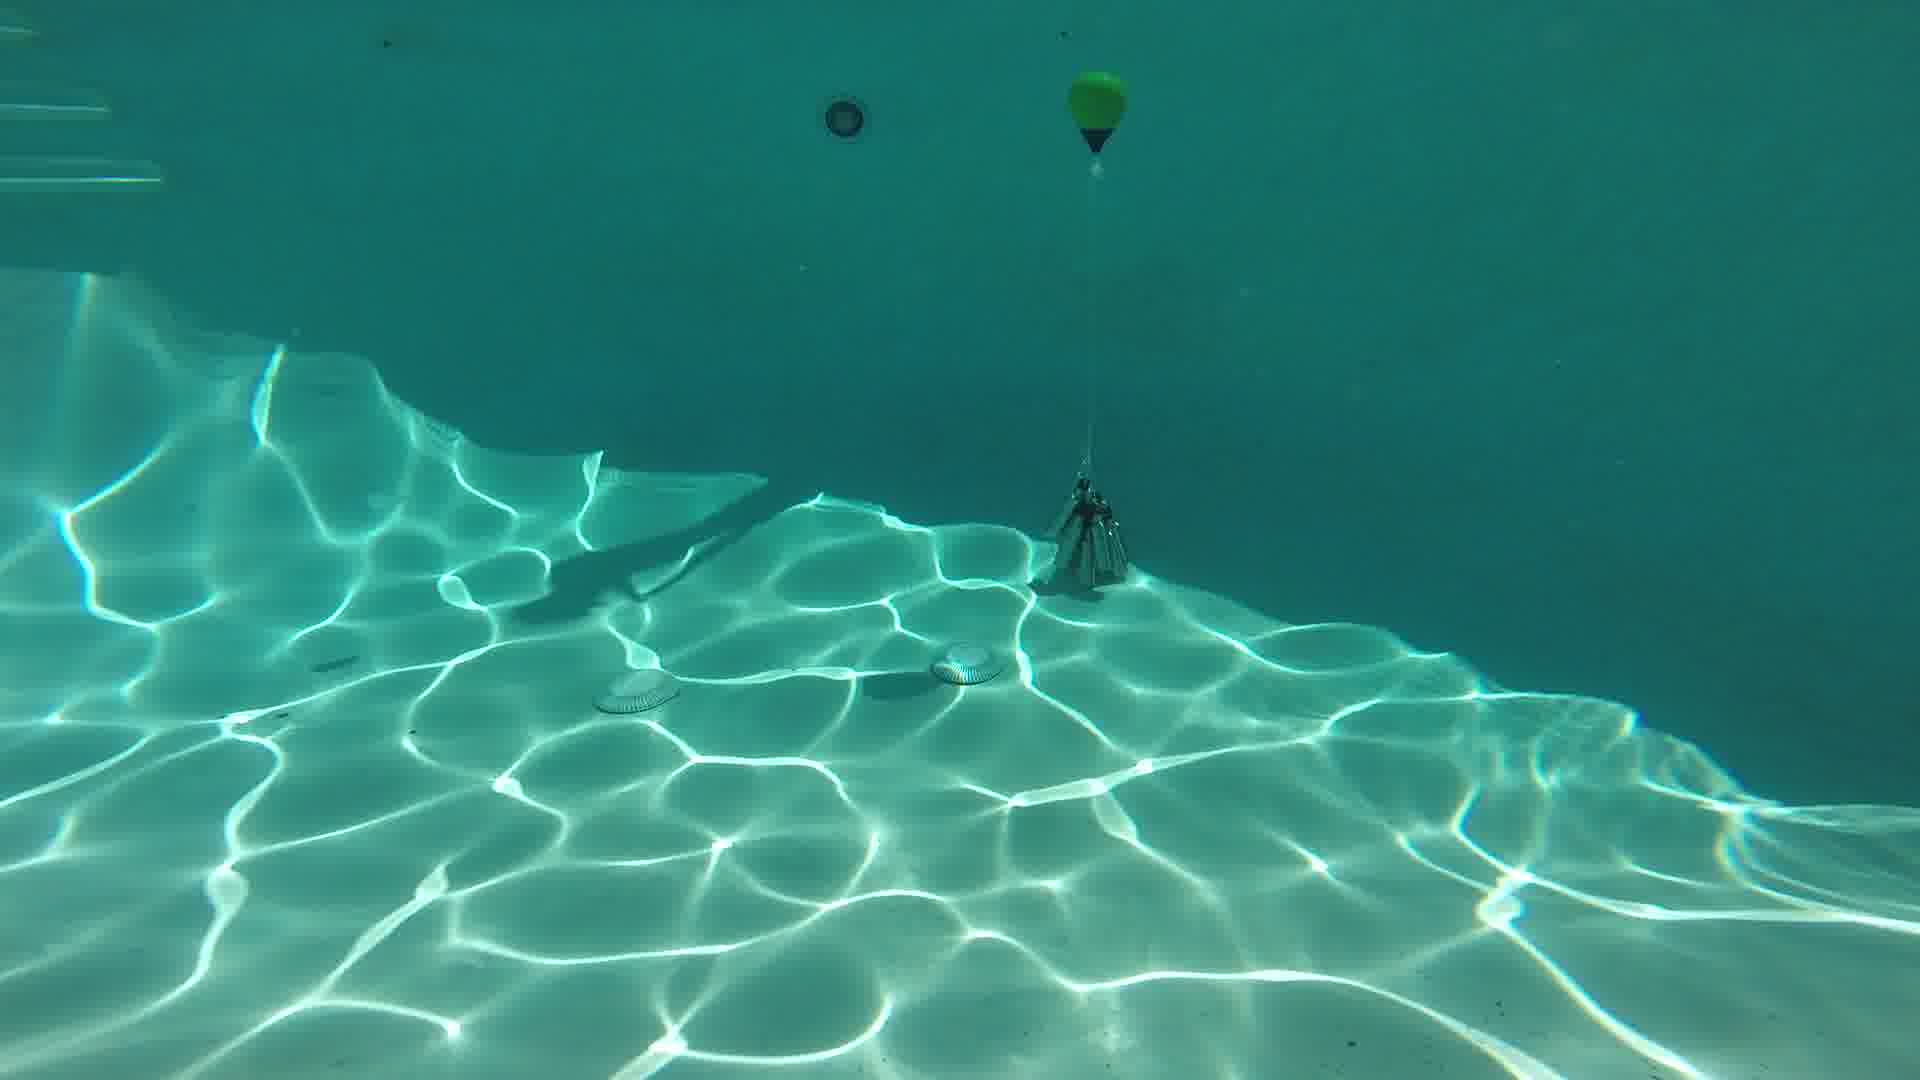yellow_buoy: (1069, 71, 1124, 149)
